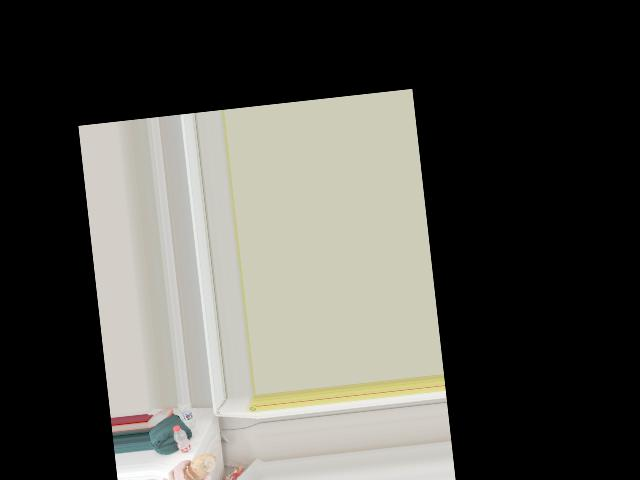sweet_potato: (184, 451, 217, 480)
